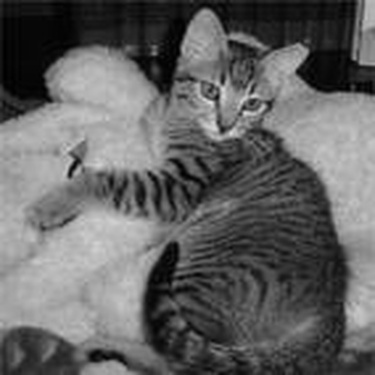cat: (10, 1, 354, 372)
